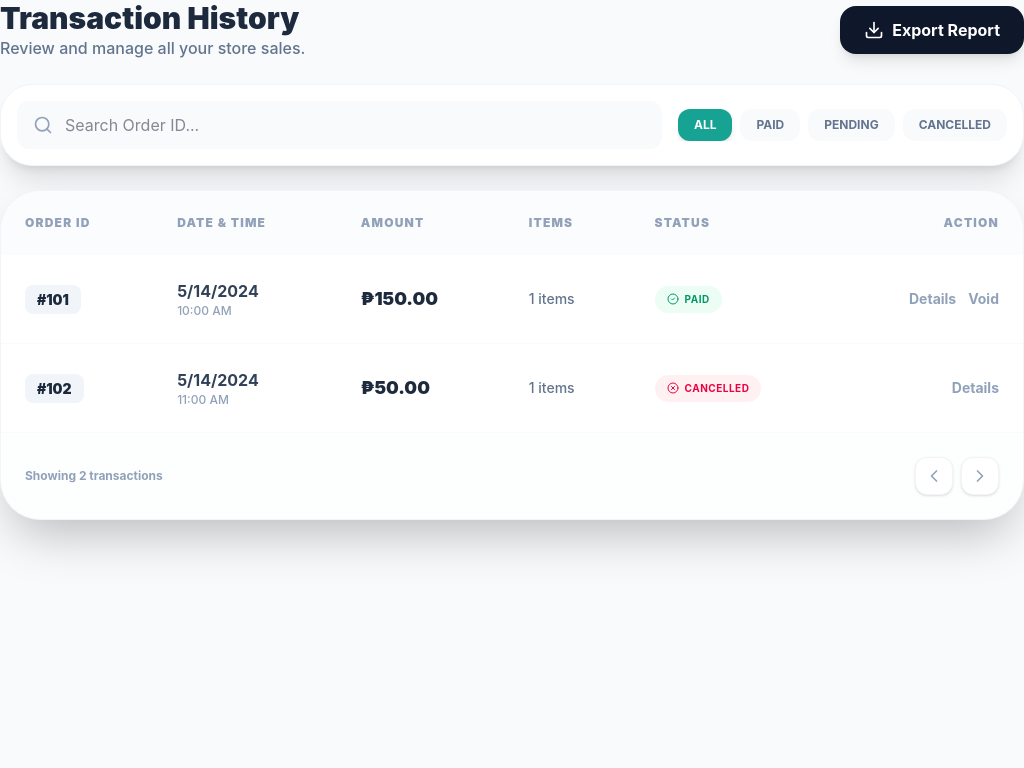
Test: Transactions Component › opens details modal
Click the button "Details" in the row of "101": (933, 299) [909,289,956,309]
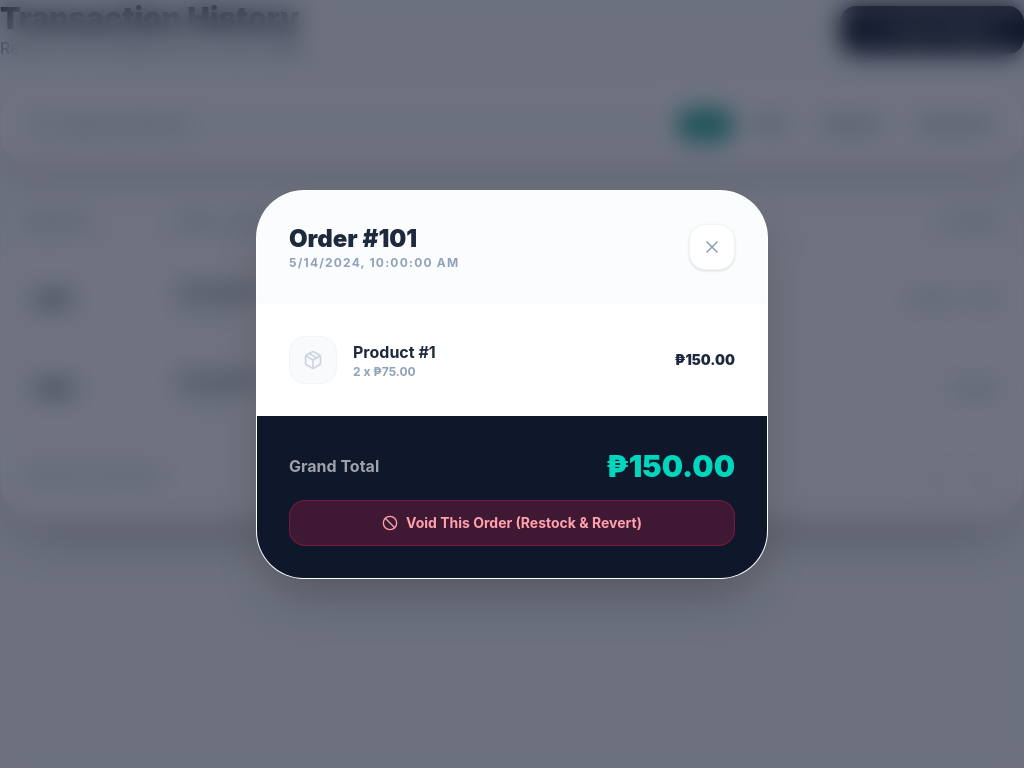
Expected: the heading "Order #101" is shown, [289,224,417,252]
Expected: the text "2 x ₱75.00" is shown, [353,364,416,378]
Expected: the text "Grand Total" is shown, [289,454,379,478]
